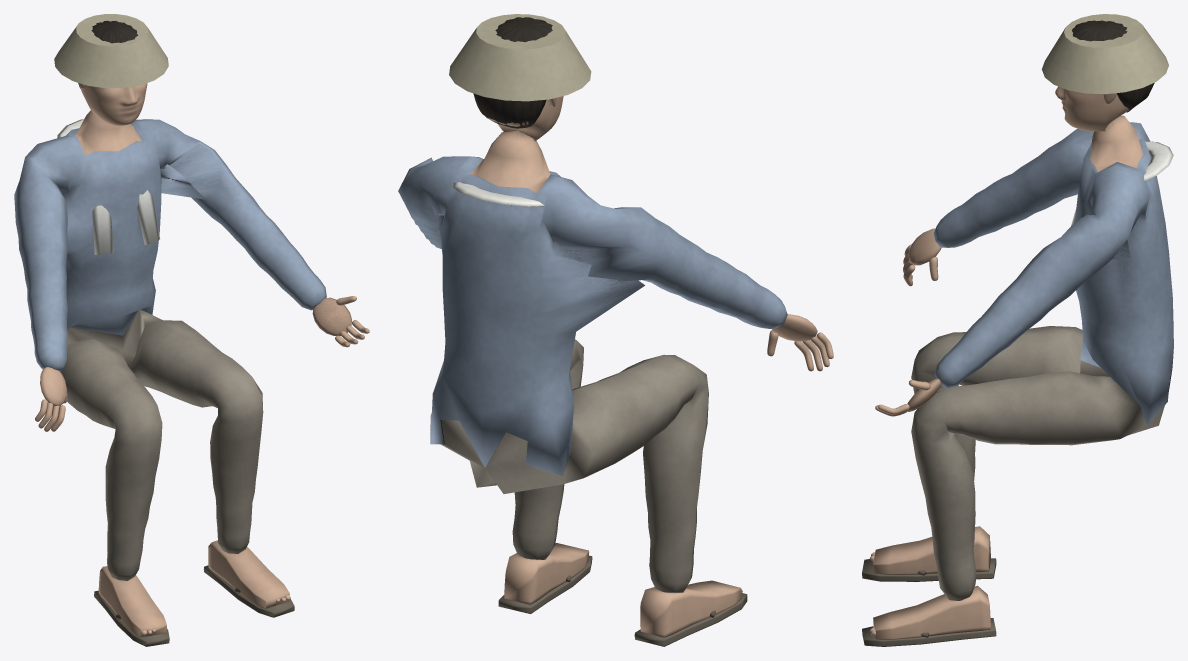
The model's file is SEAT_TukDriver.fbx.
3 renders of one model, left to right at view 1: azimuth 30°, elevation 25°; view 2: azimuth 150°, elevation 25°; view 3: azimuth 270°, elevation 25°, orthographic. The views are drawn at different scales.
Visible parts, largest first — view 1: SEAT_TukDriver; view 2: SEAT_TukDriver; view 3: SEAT_TukDriver.
Boxes of the visible parts, x1,y1,x2,y2 form: SEAT_TukDriver: (14,14,369,646); SEAT_TukDriver: (398,14,833,646); SEAT_TukDriver: (862,14,1173,646).
Bounding box in the file's own units: 0.8729 × 1.36 × 0.6607.
Materials: 1 (1 with a texture image).
